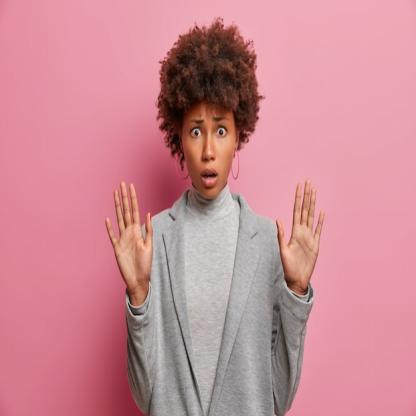stop: (102, 178, 158, 296), (274, 178, 330, 292)
